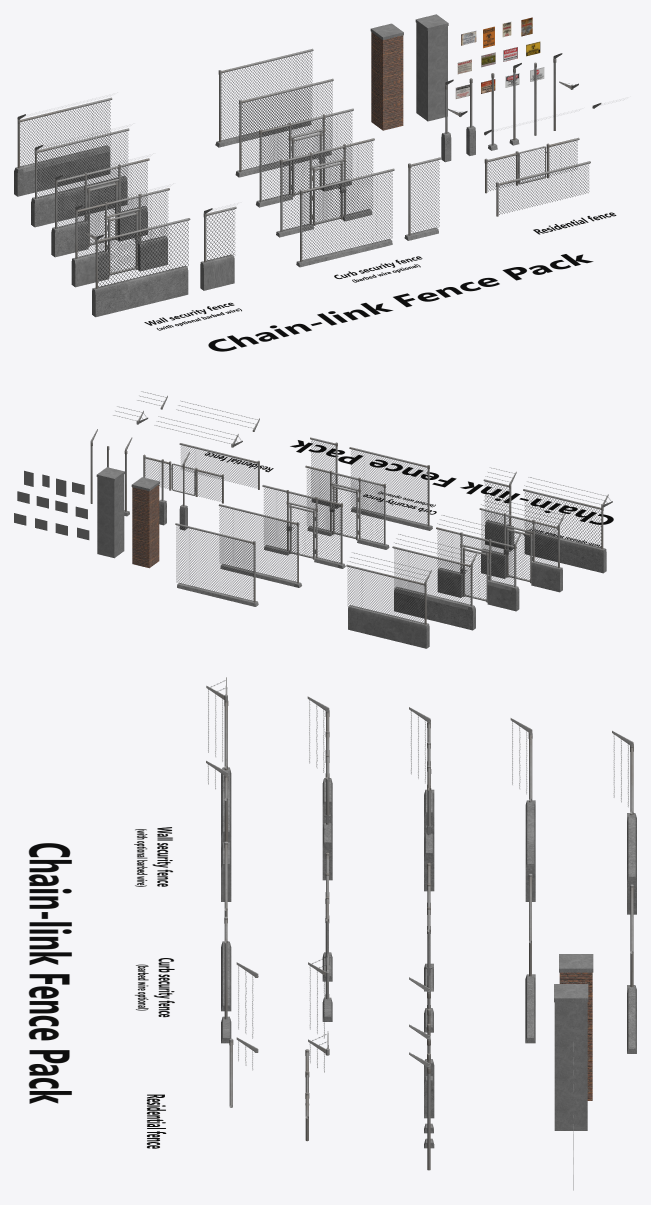
The picture shows the model from 3 angles, top to bottom: view 1: azimuth 30°, elevation 25°; view 2: azimuth 150°, elevation 25°; view 3: azimuth 270°, elevation 25°; orthographic projection. The views are drawn at different scales.
Visible parts, largest first — view 1: Wall_Straight, Wall_Corner_CW, Wall_Corner_CCW, Curb_Straight, Curb_Door_Straight, Curb_Door_Corner, Wall_Door_Straight, Curb_Corner_CW, Wall_Door_Corner, Curb_Corner_CCW, BrickCornerSpacer, ConcreteCornerSpacer (+10 smaller); view 2: Wall_Corner_CW, Wall_Corner_CCW, Wall_Straight, Curb_Corner_CW, Curb_Door_Corner, Curb_Door_Straight, Curb_Corner_CCW, Curb_Straight, Wall_Door_Corner, Wall_Door_Straight, BrickCornerSpacer, ConcreteCornerSpacer (+8 smaller); view 3: pPlane4, ConcreteCornerSpacer, BrickCornerSpacer, Wall_Door_Straight, Wall_Door_Corner, Wall_Corner_CCW, Wall_Corner_CW, Curb_Corner_CW, Curb_Corner_CCW, pPlane1, Curb_Door_Straight, pPlane2 (+4 smaller).
Part boxes in pixels (x1,y1,x2,y2): Wall_Straight: [92, 218, 190, 317]; Wall_Corner_CW: [14, 97, 112, 196]; Wall_Corner_CCW: [31, 128, 129, 227]; Curb_Straight: [296, 168, 394, 267]; Curb_Door_Straight: [276, 138, 374, 237]; Curb_Door_Corner: [256, 108, 353, 207]; Wall_Door_Straight: [71, 188, 169, 287]; Curb_Corner_CW: [215, 48, 313, 147]; Wall_Door_Corner: [51, 158, 149, 257]; Curb_Corner_CCW: [235, 78, 333, 177]; BrickCornerSpacer: [370, 23, 403, 130]; ConcreteCornerSpacer: [415, 14, 448, 121]; Wall_Corner_CW: [346, 564, 429, 648]; Wall_Corner_CCW: [392, 546, 475, 630]; Wall_Straight: [523, 489, 606, 573]; Curb_Corner_CW: [175, 523, 258, 606]; Curb_Door_Corner: [262, 485, 345, 568]; Curb_Door_Straight: [305, 465, 389, 549]; Curb_Corner_CCW: [218, 504, 301, 587]; Curb_Straight: [349, 447, 432, 530]; Wall_Door_Corner: [436, 527, 519, 611]; Wall_Door_Straight: [479, 508, 562, 592]; BrickCornerSpacer: [131, 477, 159, 568]; ConcreteCornerSpacer: [96, 467, 124, 558]; pPlane4: [28, 843, 71, 1103]; ConcreteCornerSpacer: [554, 984, 588, 1130]; BrickCornerSpacer: [559, 954, 593, 1100]; Wall_Door_Straight: [322, 711, 332, 880]; Wall_Door_Corner: [424, 722, 434, 891]; Wall_Corner_CCW: [525, 733, 535, 901]; Wall_Corner_CW: [627, 746, 636, 914]; Curb_Corner_CW: [627, 884, 636, 1053]; Curb_Corner_CCW: [525, 873, 535, 1043]; pPlane1: [134, 827, 172, 886]; Curb_Door_Straight: [322, 852, 332, 1021]; pPlane2: [135, 958, 174, 1017].
Bounding box in the file's own units: 18.81 × 2.9 × 12.28.
5 materials, 5 textured.
